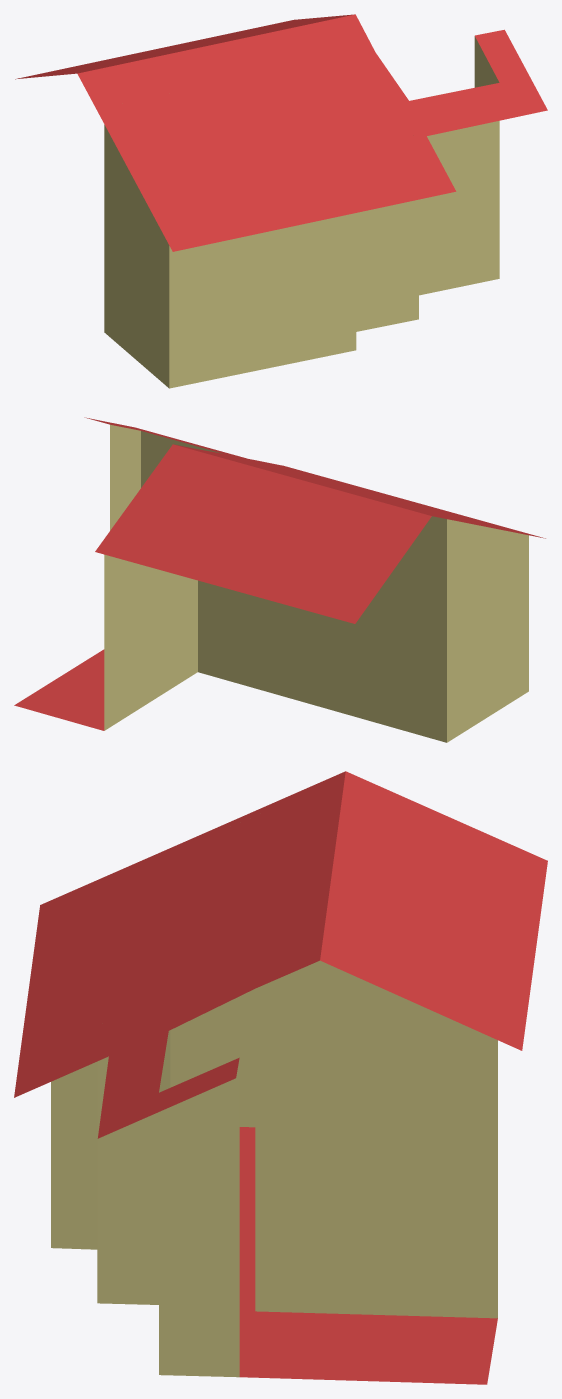
The picture shows the model from 3 angles, top to bottom: view 1: azimuth 30°, elevation 25°; view 2: azimuth 150°, elevation 25°; view 3: azimuth 270°, elevation 25°; orthographic projection. The views are drawn at different scales.
Size of the model in its own units: 17.7 by 14.21 by 10.36.
